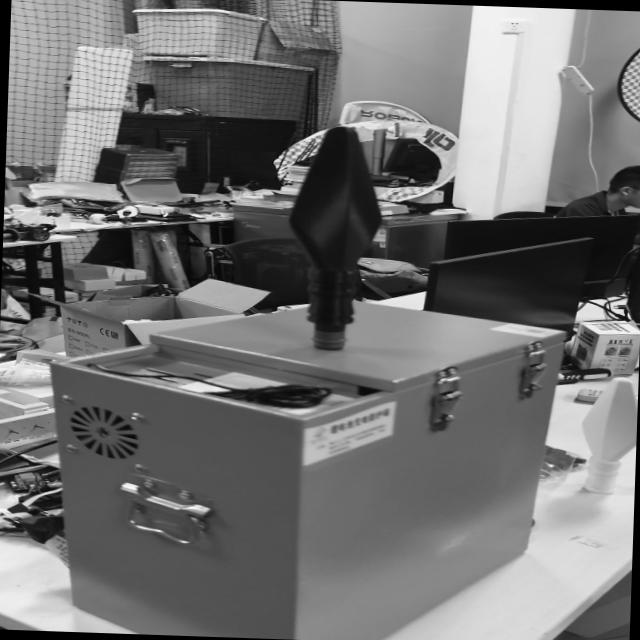base: (312, 330, 347, 351)
